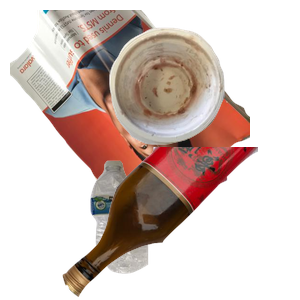glass: (60, 147, 300, 300)
paper: (10, 10, 250, 190)
plastic: (88, 158, 229, 300)
trash: (107, 25, 300, 162)
